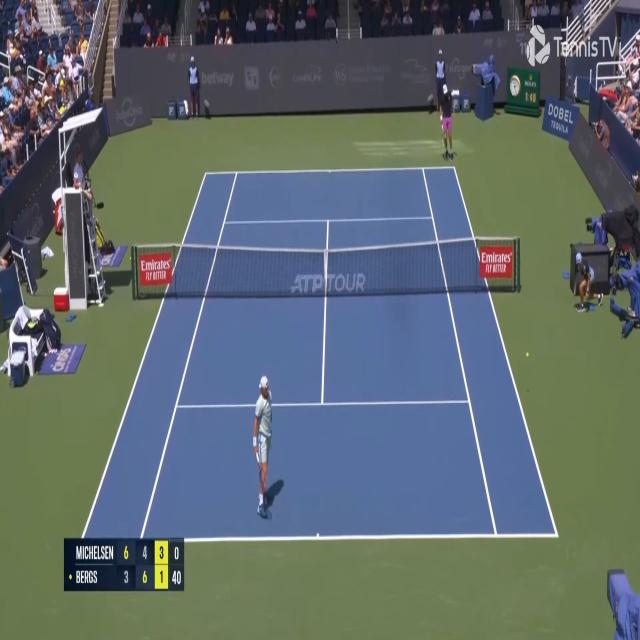tennis-player: (252, 370, 284, 523), (436, 77, 456, 163)
